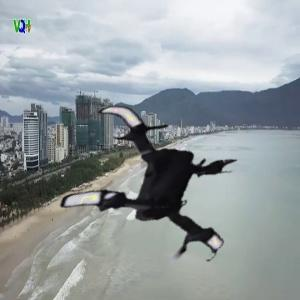drone: (59, 88, 263, 292)
